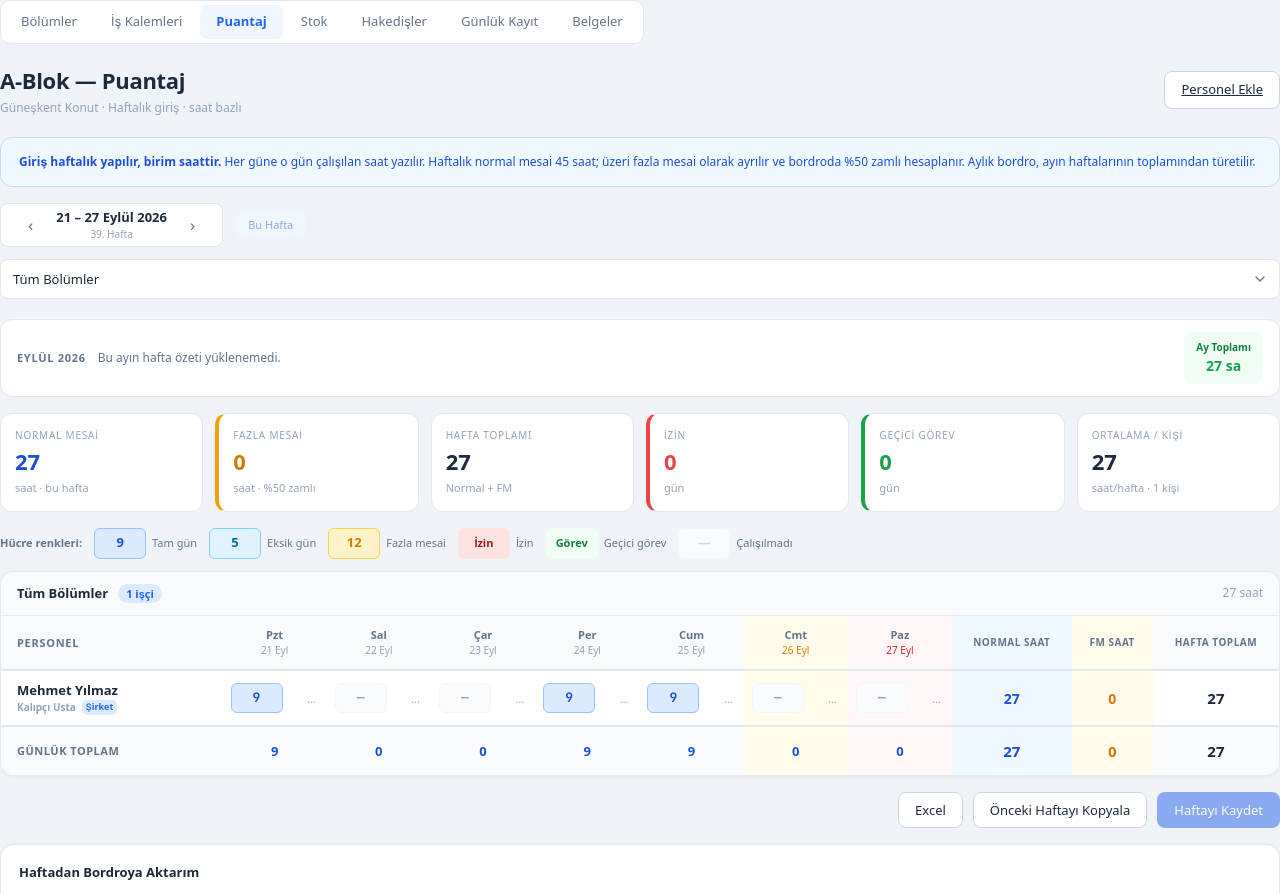
Test case: SiteTimesheetView · (e) kilit 409'u (§3.14 P4) › EV-BORC-4 · 409 gövdesi day_locks taşırsa hata bandı ve kilit bandı rapor tarihini yazar
Replace the text in the field named "Mehmet Yılmaz · 24 Eyl saati" with "10" at (569, 698), box [543,683,595,713]
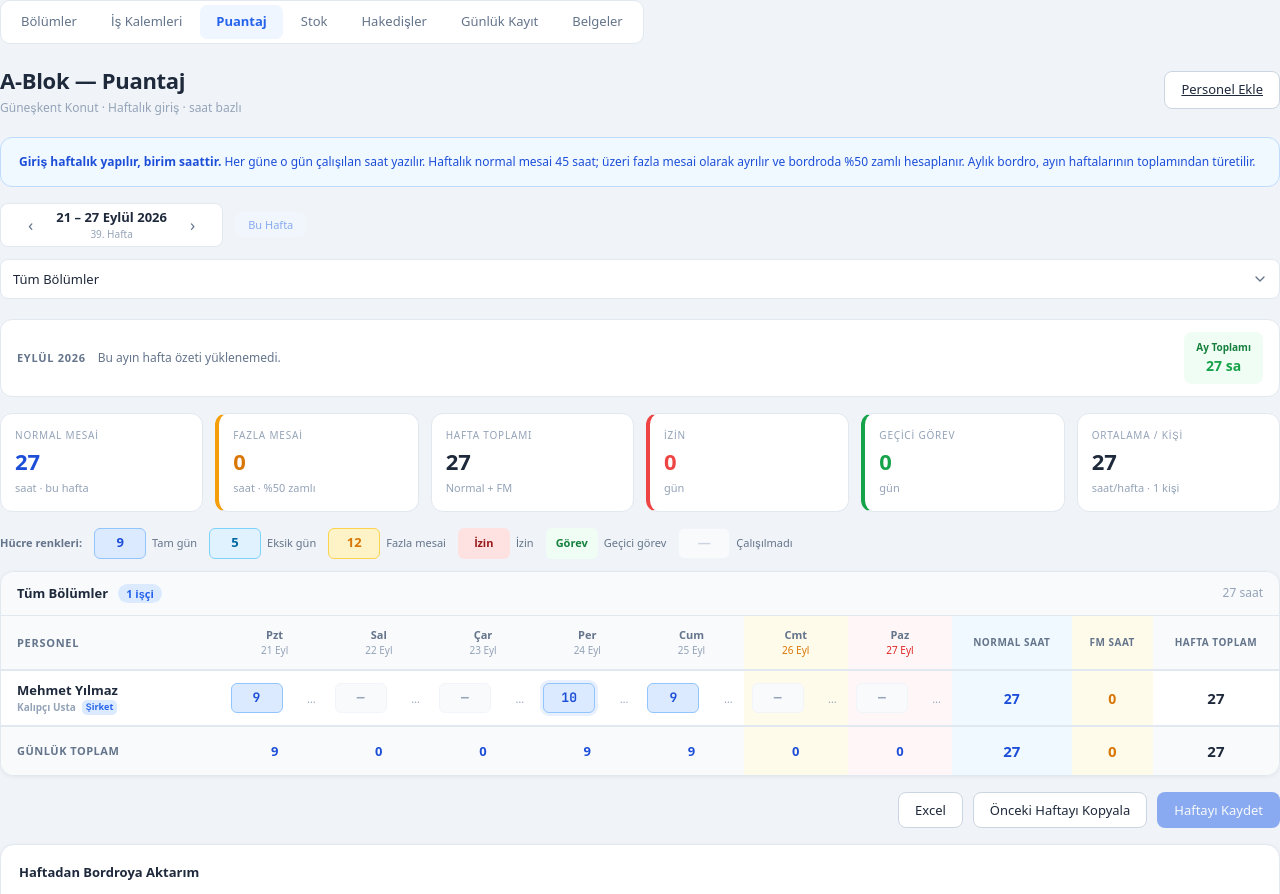
Press Tab
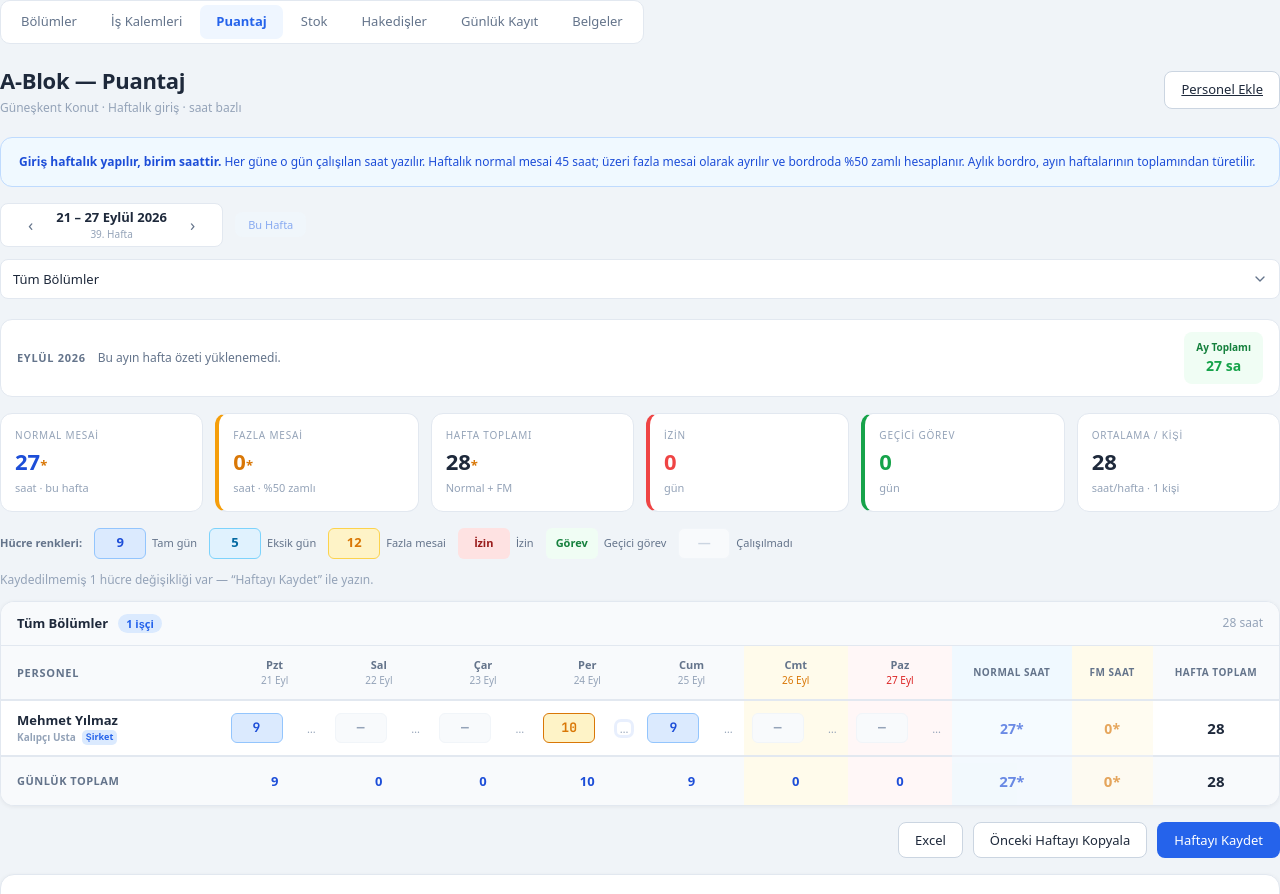
Click the button "Haftayı Kaydet" at (1219, 840), box [1157,822,1279,858]
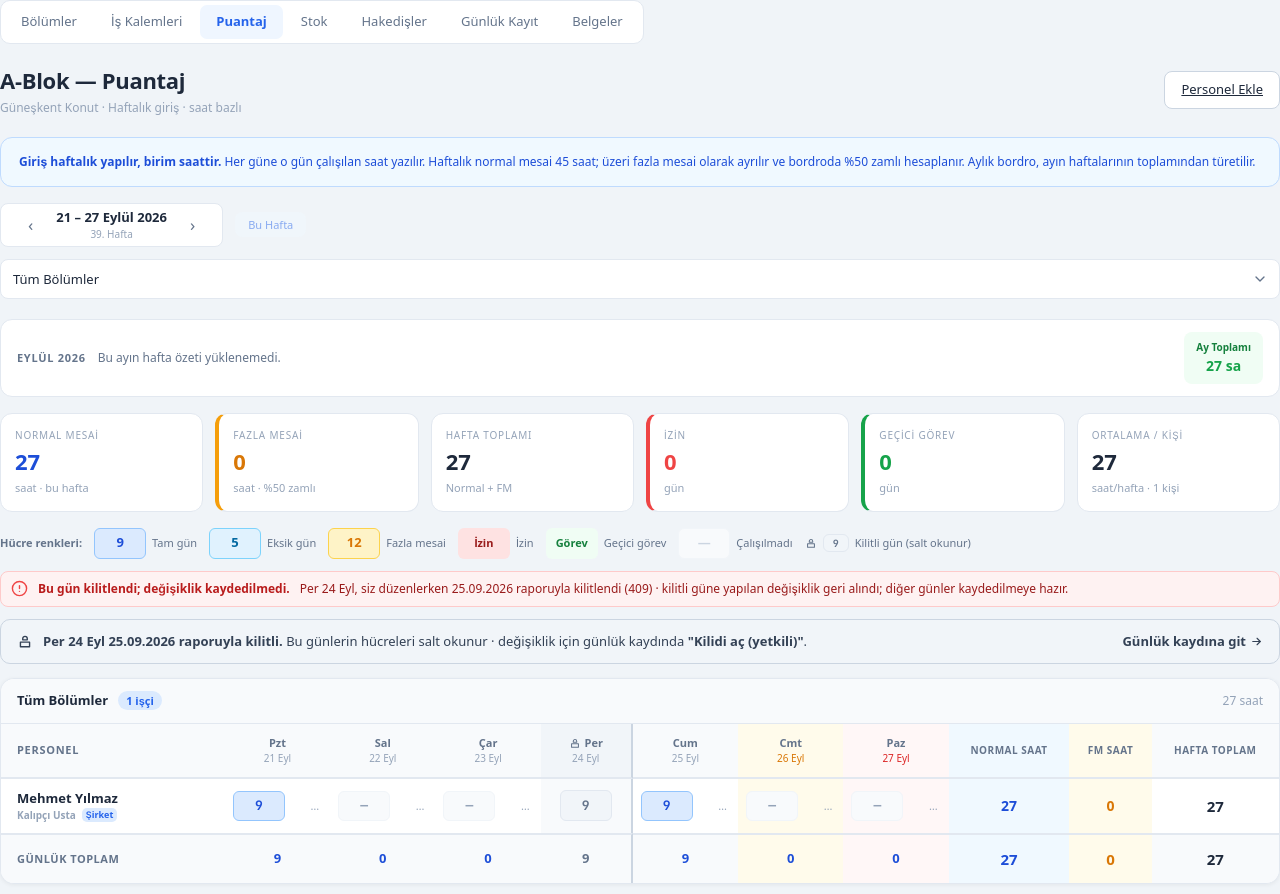
Now the text "Per 24 Eyl, siz düzenlerken 25.09.2026 raporuyla kilitlendi (409) · kilitli güne yapılan değişiklik geri alındı; diğer g" is shown, box [300,580,1068,596]
Now the message named "Kilitli günler" shows "Per 24 Eyl 25.09.2026 raporuyla kilitli.", box [43,632,283,650]
